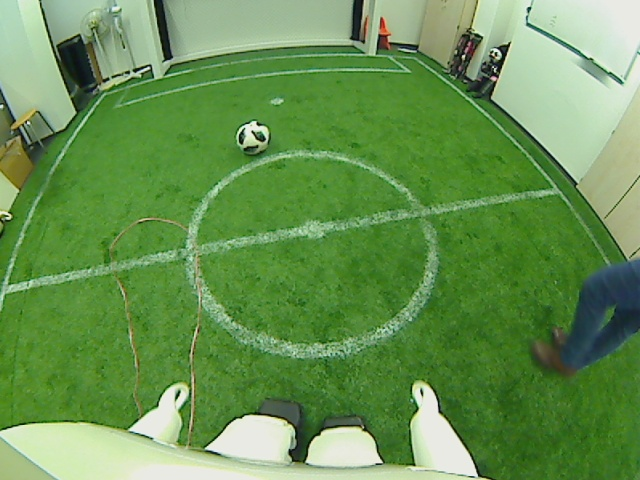ball: (234, 120, 272, 155)
